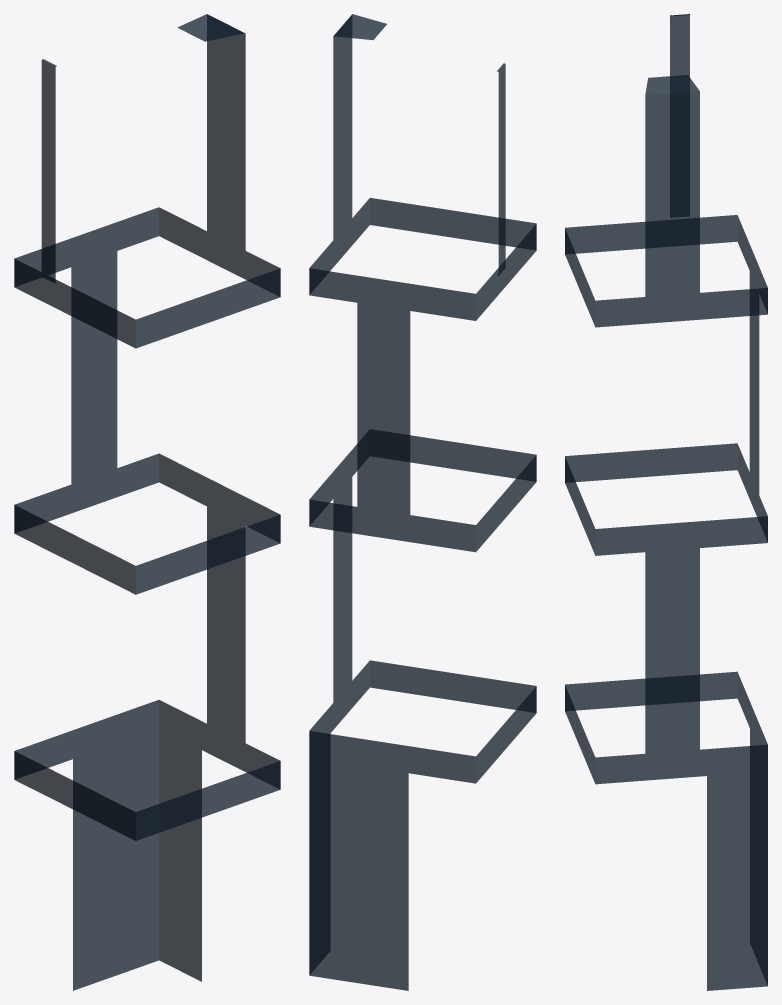
Rendered from Glass Super Dark Three.FBX.
3 renders of one model, left to right at view 1: azimuth 30°, elevation 25°; view 2: azimuth 150°, elevation 25°; view 3: azimuth 270°, elevation 25°, orthographic. The views are drawn at different scales.
Parts seen in each view (by area): view 1: Obj_1861 (×2); view 2: Obj_1861 (×2); view 3: Obj_1861 (×2).
Part boxes in pixels (box(x1,y1,x2,y2)): Obj_1861 (×2): box(14, 14, 280, 990); Obj_1861 (×2): box(309, 14, 536, 990); Obj_1861 (×2): box(565, 14, 767, 990).
Bounding box in the file's own units: 45.18 × 221 × 45.18.
